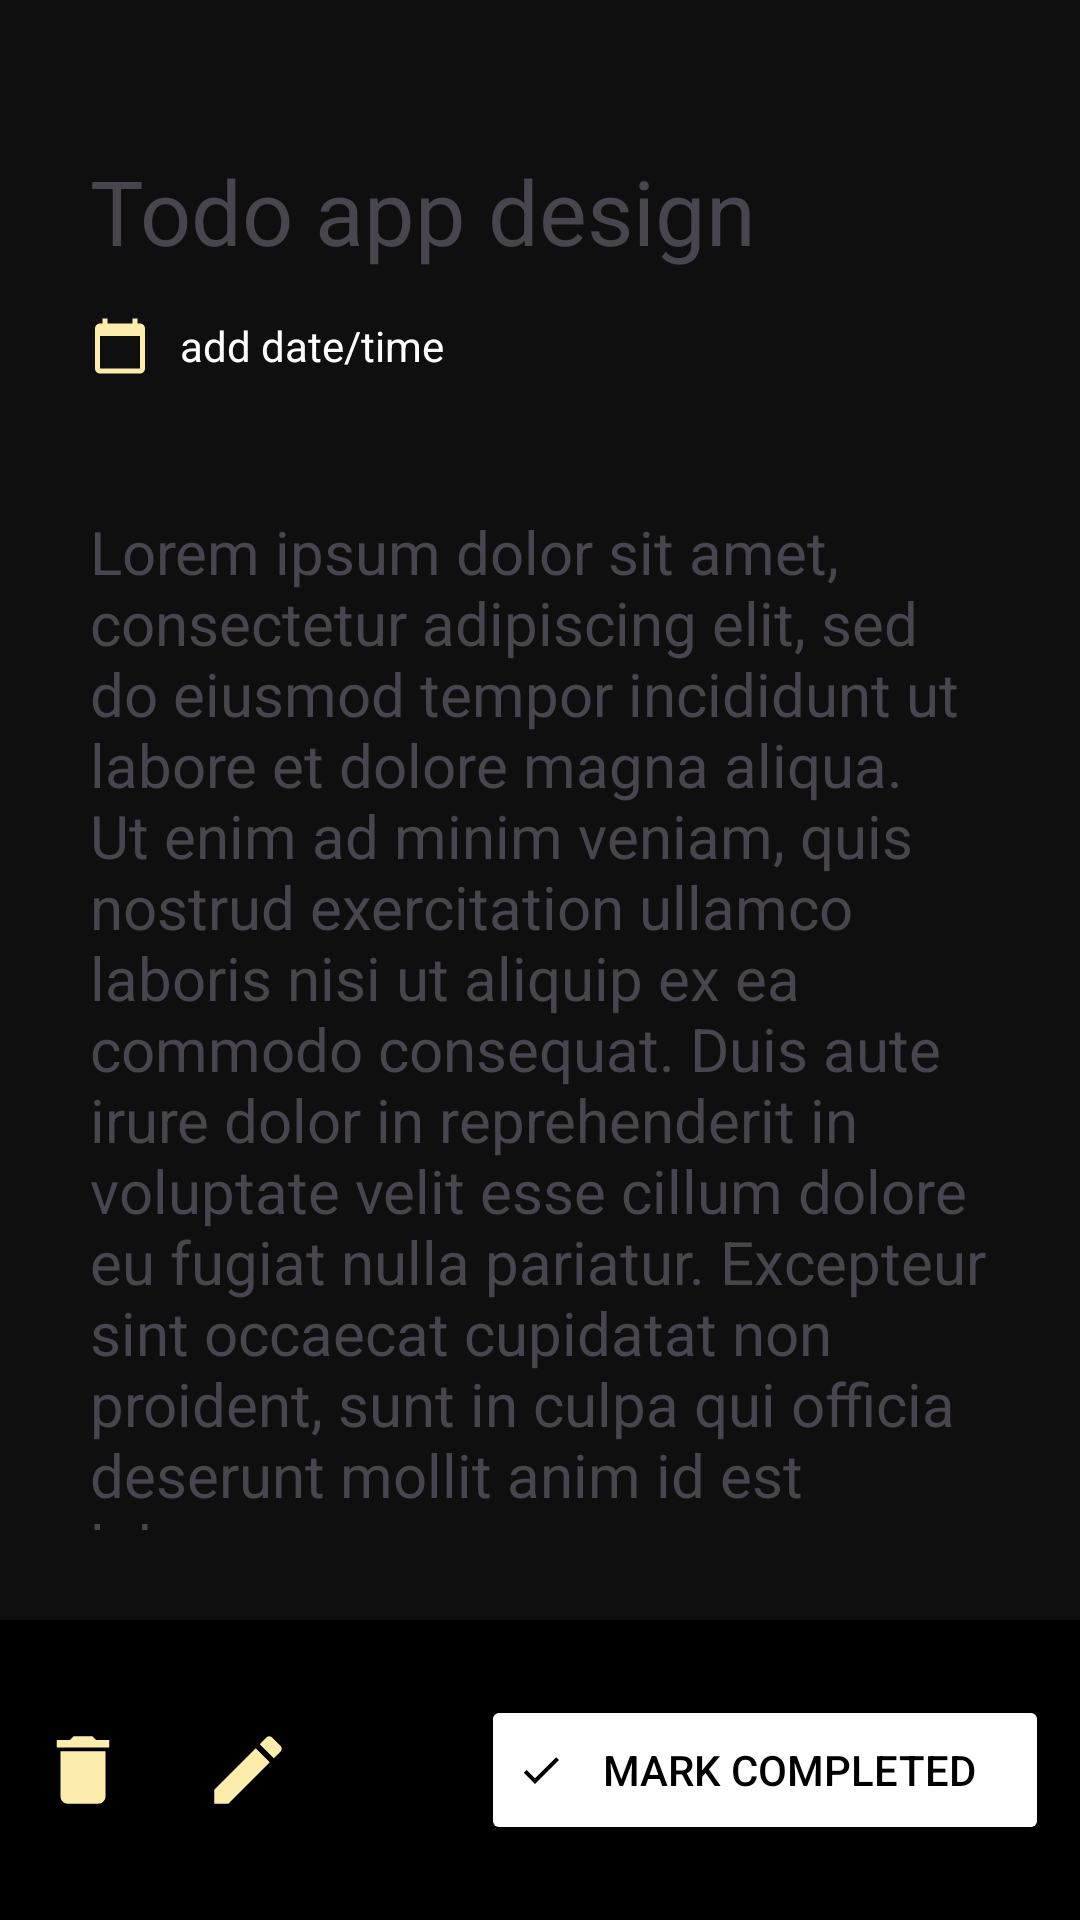

Named icons in this screenshot (1080px x 1920px) and their bounding boxes, (x1, y1, x2, y2):
calendar today: (95, 318, 145, 374)
delete: (56, 1736, 110, 1804)
edit: (214, 1736, 282, 1804)
